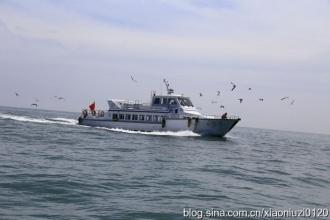bird: (229, 80, 238, 90), (237, 98, 244, 105)
otherboat: (71, 89, 241, 134)
